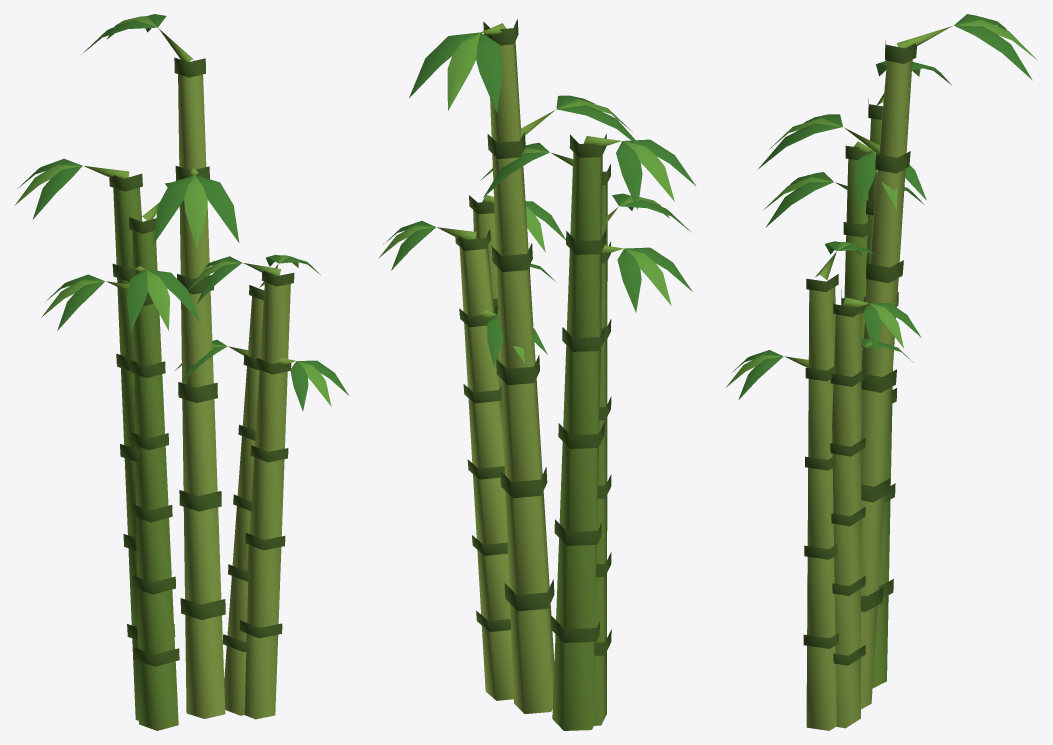
The model's file is bamboo-a.glb.
3 renders of one model, left to right at view 1: azimuth 30°, elevation 25°; view 2: azimuth 150°, elevation 25°; view 3: azimuth 270°, elevation 25°, orthographic. The views are drawn at different scales.
Visible parts, largest first — view 1: bamboo-a; view 2: bamboo-a; view 3: bamboo-a.
Part boxes in pixels (x1,y1,x2,y2): bamboo-a: (14, 14, 348, 730); bamboo-a: (378, 19, 696, 730); bamboo-a: (726, 14, 1037, 730).
Size of the model in its own units: 0.4116 by 0.89 by 0.3716.
